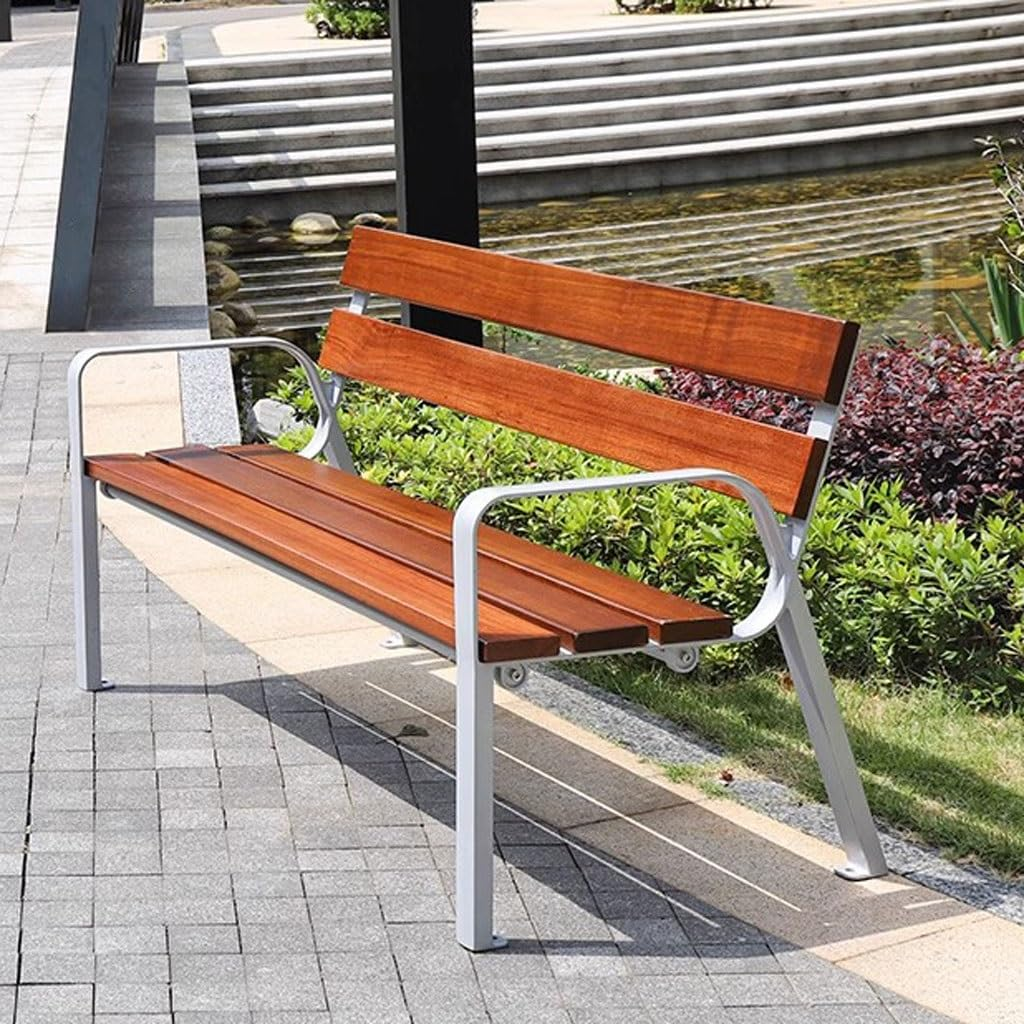Chair: (59, 215, 912, 952)
